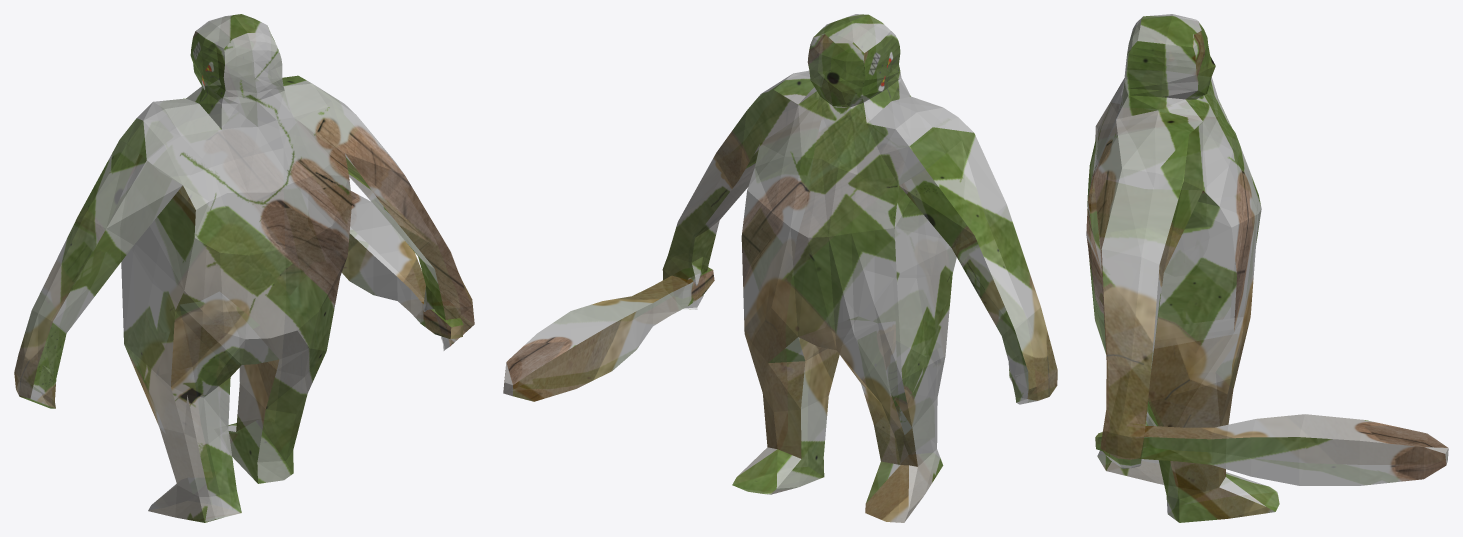
The model's file is Enemigo24.obj.
3 views of the same model, side by side, from view 1: azimuth 30°, elevation 25°; view 2: azimuth 150°, elevation 25°; view 3: azimuth 270°, elevation 25° (orthographic). The views are drawn at different scales.
Visible parts, largest first — view 1: Cube; view 2: Cube; view 3: Cube.
Boxes of the visible parts, left/top/right/bottom form: Cube: left=14, top=14, right=474, bottom=522; Cube: left=503, top=14, right=1057, bottom=522; Cube: left=1086, top=14, right=1448, bottom=522.
Size of the model in its own units: 2.62 by 2.79 by 1.86.
